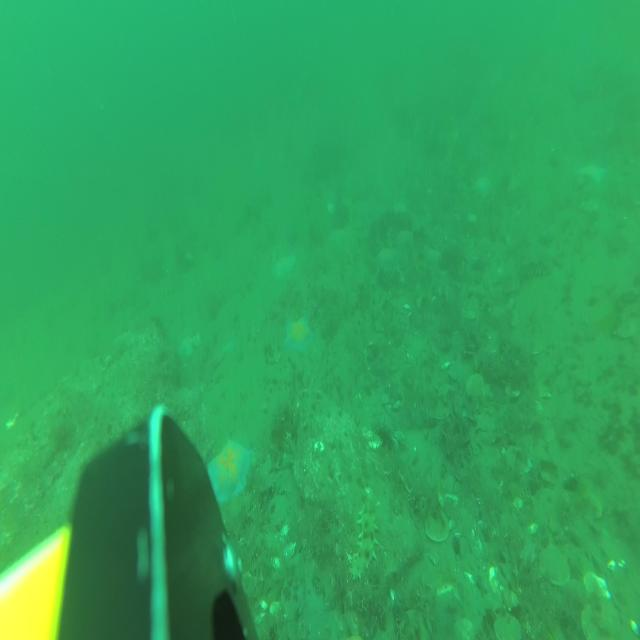echinus: (370, 418, 393, 461)
holothurian: (347, 506, 377, 580), (519, 258, 551, 282)
scallop: (533, 484, 567, 535), (539, 542, 571, 589), (582, 602, 619, 640), (436, 581, 463, 614), (581, 491, 603, 529), (425, 508, 449, 542), (492, 612, 521, 640), (507, 443, 530, 474), (466, 374, 486, 403), (453, 615, 473, 640)
starfish: (206, 436, 252, 508), (284, 311, 314, 350), (272, 254, 297, 282), (577, 164, 606, 188), (216, 335, 238, 366), (374, 246, 399, 273), (179, 331, 199, 358), (474, 175, 491, 203)
